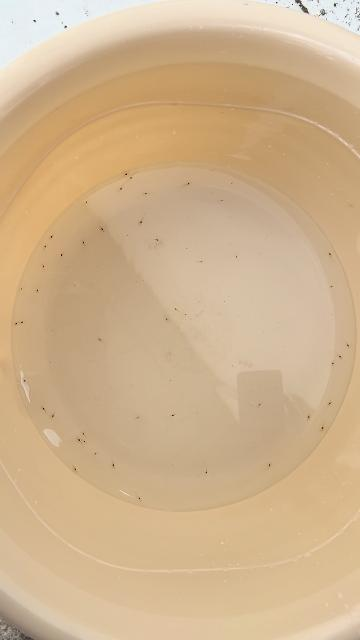benur: (117, 187, 123, 193), (137, 220, 143, 226), (129, 175, 133, 183), (187, 180, 193, 185), (319, 426, 324, 432), (50, 414, 55, 420), (22, 376, 27, 382), (169, 413, 174, 419), (125, 171, 130, 176), (142, 191, 147, 196), (328, 400, 333, 405), (76, 437, 81, 442), (101, 228, 106, 233), (156, 238, 161, 243), (97, 337, 102, 342), (327, 250, 331, 256), (138, 497, 142, 503), (40, 405, 44, 411), (44, 242, 48, 248), (60, 251, 64, 257), (134, 417, 140, 421), (339, 356, 344, 360), (112, 464, 116, 469), (74, 468, 78, 473), (81, 431, 85, 436), (13, 322, 17, 327), (36, 289, 40, 294), (41, 263, 45, 268), (49, 236, 53, 241), (81, 239, 85, 244), (332, 360, 336, 364), (92, 453, 96, 457), (84, 441, 88, 445), (19, 321, 23, 325), (84, 201, 88, 205), (173, 306, 177, 310), (347, 344, 350, 349), (307, 416, 310, 421), (269, 461, 272, 466), (205, 471, 208, 476), (235, 255, 238, 260), (331, 284, 334, 288), (19, 288, 23, 291), (200, 260, 204, 263), (259, 402, 263, 405), (221, 199, 224, 202), (185, 313, 187, 316), (165, 318, 168, 320)
